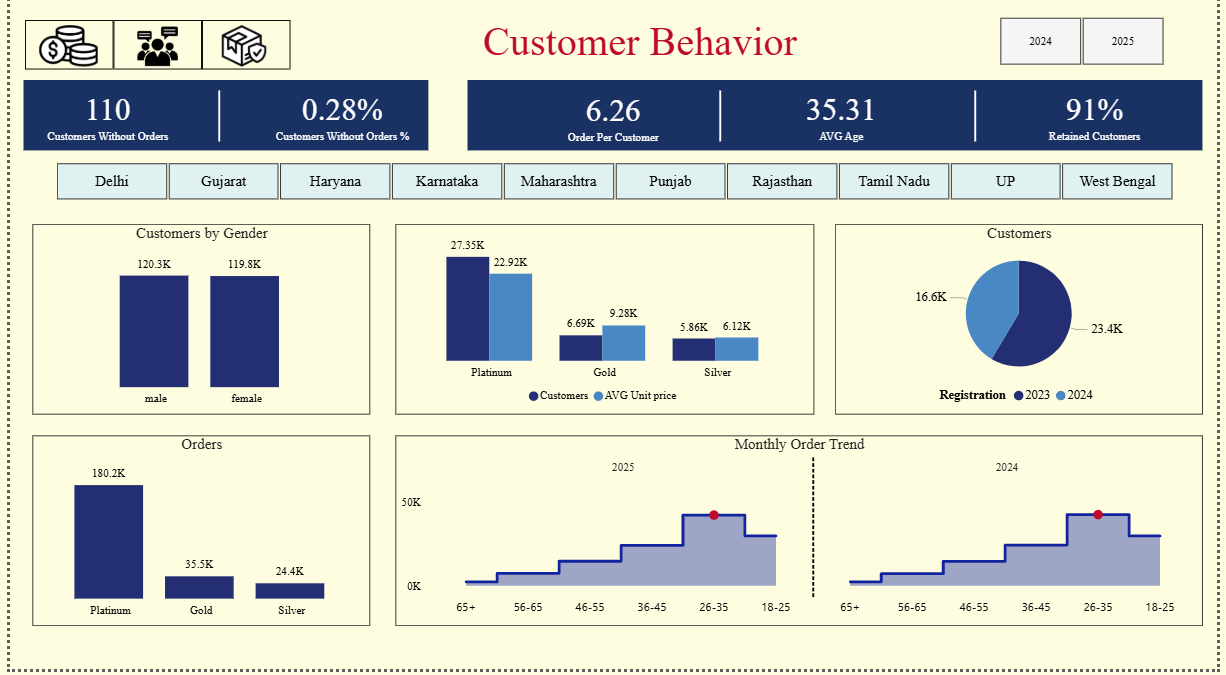

What the dashboard file says about the page in this screenshot:
{"tool":"powerbi","page":{"name":"Customers","canvas":[1280,720],"ordinal":2},"visuals":[{"type":"shape","box":[485.1,95.4,779.4,74.8],"z":0},{"type":"slicer","fields":{"Values":["Calendar.year"]},"box":[1024.4,22.3,222.7,63.6],"z":1000},{"type":"lineStackedColumnComboChart","title":"Customers by Gender","fields":{"Category":["sales.Gender"],"Y":["CountNonNull(sales.Gender)"]},"box":[23.9,248.1,357.9,202],"z":2000},{"type":"shape","box":[14.3,95.4,429.5,74.8],"z":3000},{"type":"card","fields":{"Values":["Avg(sales.Age)"]},"box":[801.7,85.9,159.1,90.7],"z":4000},{"type":"shape","box":[994.1,106.6,58.9,54.1],"z":5000},{"type":"slicer","fields":{"Values":["customers.State"]},"box":[23.9,176.6,1232.7,52.5],"z":6000},{"type":"lineChart","title":"Monthly Order Trend","fields":{"Rows":["Calendar.year"],"Category":["sales.age_group"],"Y":["CountNonNull(sales.Order_ID)"]},"box":[408.8,472.4,855.7,202],"z":7000},{"type":"card","fields":{"Values":["sales.Retained Customers"]},"box":[1070.5,85.9,159.1,90.7],"z":8000},{"type":"shape","box":[723.7,106.6,58.9,54.1],"z":9000},{"type":"lineStackedColumnComboChart","title":"Orders","fields":{"Category":["sales.tier"],"Y":["Count(sales.Order_ID)"]},"box":[23.9,472.4,357.9,202],"z":10000},{"type":"card","fields":{"Values":["customers.__customer no order"]},"box":[14.3,85.9,178.1,90.7],"z":11000},{"type":"clusteredColumnChart","title":"Orders Percentage","fields":{"Category":["sales.tier"],"Y":["Count(sales.Customer_ID)","Avg(sales.Unit_Price)"]},"box":[408.8,248.1,443.8,202],"z":12000},{"type":"card","fields":{"Values":["sales.order per customer"]},"box":[567.8,95.4,143.2,74.8],"z":13000},{"type":"pieChart","title":"Customers","fields":{"Category":["customers.Registration_Date.Variation.Date Hierarchy.Year"],"Y":["Count(customers.Customer_ID)"]},"box":[874.8,248.1,389.7,202],"z":14000},{"type":"textbox","box":[461.3,25.4,413.6,70],"z":15000},{"type":"card","fields":{"Values":["customers.percent customer no order"]},"box":[275.2,85.9,154.3,90.7],"z":16000},{"type":"shape","box":[192.5,106.6,58.9,54.1],"z":17000},{"type":"image","box":[14.3,31.8,95.4,54.1],"z":17250},{"type":"image","box":[213.1,31.8,70,54.1],"z":17500},{"type":"image","box":[116.1,33.4,81.1,52.5],"z":18000},{"type":"actionButton","box":[15.9,31.8,93.8,52.5],"z":19000},{"type":"actionButton","box":[109.8,31.8,93.8,52.5],"z":20000},{"type":"actionButton","box":[203.6,31.8,93.8,52.5],"z":21000}]}

Visuals, with their boxes in screenshot pixels (x1, y1, x2, y2), scaled from the page's 1280x720 canvas onto the 1226x675 screenshot:
shape: 465:89:1211:160
slicer - Calendar.year: 981:21:1194:81
"Customers by Gender" lineStackedColumnComboChart: 23:233:366:422
shape: 14:89:425:160
card - Avg(sales.Age): 768:81:920:166
shape: 952:100:1009:151
slicer - customers.State: 23:166:1204:215
"Monthly Order Trend" lineChart: 392:443:1211:632
card - sales.Retained Customers: 1025:81:1178:166
shape: 693:100:750:151
"Orders" lineStackedColumnComboChart: 23:443:366:632
card - customers.__customer no order: 14:81:184:166
"Orders Percentage" clusteredColumnChart: 392:233:817:422
card - sales.order per customer: 544:89:681:160
"Customers" pieChart: 838:233:1211:422
textbox: 442:24:838:89
card - customers.percent customer no order: 264:81:411:166
shape: 184:100:241:151
image: 14:30:105:81
image: 204:30:271:81
image: 111:31:189:81
actionButton: 15:30:105:79
actionButton: 105:30:195:79
actionButton: 195:30:285:79
